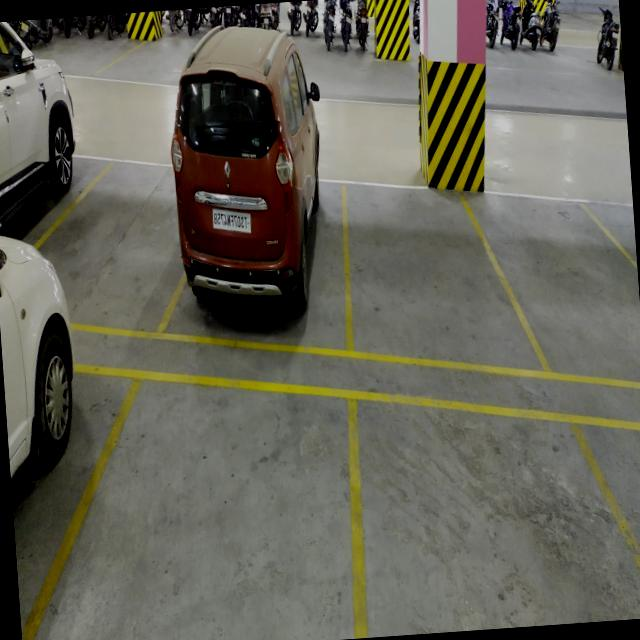car: (173, 176, 339, 364), (1, 332, 103, 538)
free: (90, 392, 370, 622), (346, 401, 574, 603), (340, 208, 490, 374), (57, 176, 187, 326), (530, 206, 608, 362)
